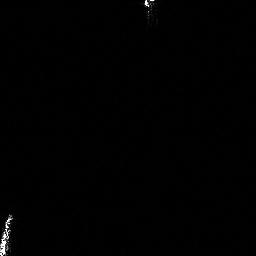ship: (1, 210, 14, 256)
